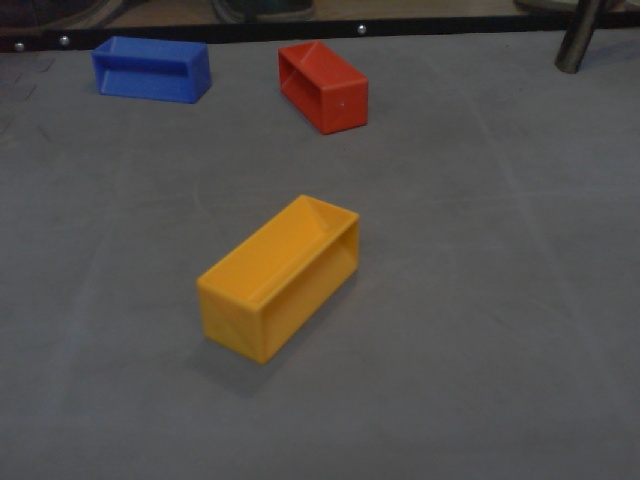BlueSample: (89, 35, 212, 107)
RedSample: (275, 40, 371, 135)
YellowSample: (194, 189, 361, 371)
